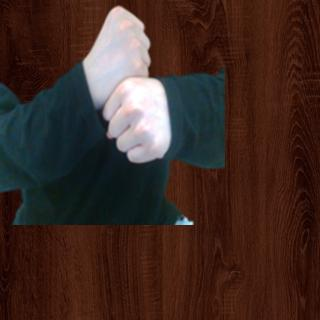CAREFUL: (82, 3, 173, 168)
